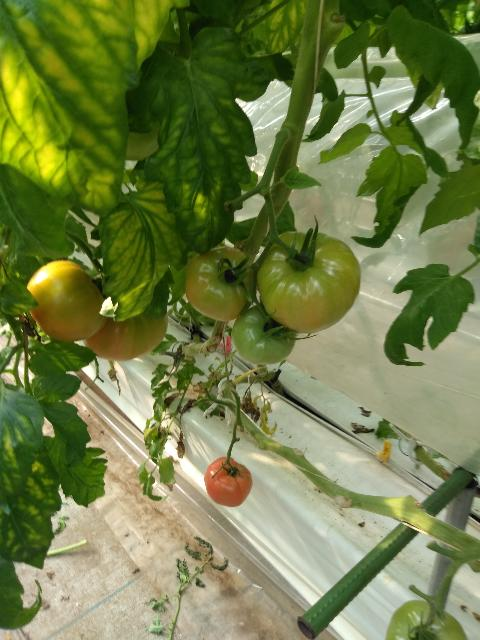b_green: (256, 231, 363, 334), (231, 302, 296, 365), (384, 599, 468, 640)
b_half_ripened: (24, 261, 108, 342), (183, 246, 257, 323), (81, 312, 168, 361), (204, 456, 253, 507)
